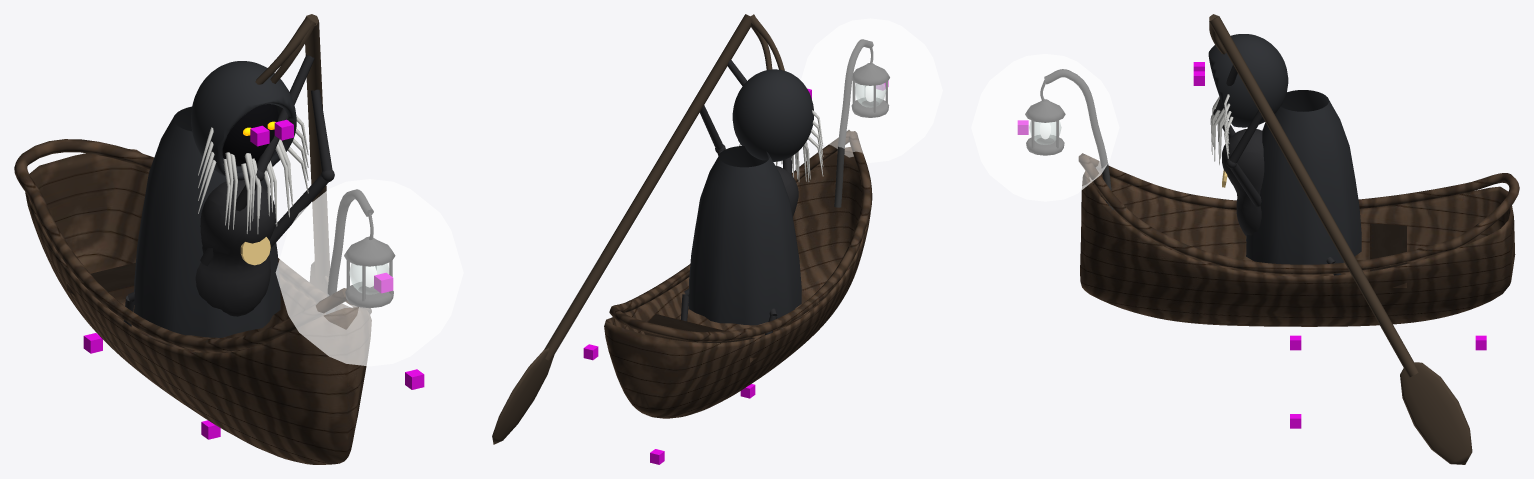
Rendered from 02_caronte_barchetta.glb.
The picture shows the model from 3 angles, left to right: view 1: azimuth 30°, elevation 25°; view 2: azimuth 150°, elevation 25°; view 3: azimuth 270°, elevation 25°; orthographic projection. The views are drawn at different scales.
Parts seen in each view (by area): view 1: Caronte__Legno_Barca, Caronte__Alone_Lanterna, Caronte__Mantello_Elitre, Caronte__Zampe, Caronte__Remo, Caronte__Capelli_Bianchi, Caronte__Ferro_Lanterna, Caronte__Ombra_Cappuccio, Caronte__Vetro_Lanterna, Caronte__Obolo_Oro; view 2: Caronte__Legno_Barca, Caronte__Mantello_Elitre, Caronte__Alone_Lanterna, Caronte__Remo, Caronte__Ferro_Lanterna, Caronte__Zampe, Caronte__Capelli_Bianchi, Caronte__Vetro_Lanterna; view 3: Caronte__Legno_Barca, Caronte__Mantello_Elitre, Caronte__Alone_Lanterna, Caronte__Remo, Caronte__Zampe, Caronte__Ferro_Lanterna, Caronte__Capelli_Bianchi.
Boxes of the visible parts, x1,y1,x2,y2 form: Caronte__Legno_Barca: [14, 139, 371, 464]; Caronte__Alone_Lanterna: [275, 179, 463, 366]; Caronte__Mantello_Elitre: [134, 61, 296, 337]; Caronte__Zampe: [123, 54, 334, 326]; Caronte__Remo: [255, 14, 329, 293]; Caronte__Capelli_Bianchi: [198, 115, 308, 234]; Caronte__Ferro_Lanterna: [326, 189, 395, 314]; Caronte__Ombra_Cappuccio: [222, 104, 278, 166]; Caronte__Vetro_Lanterna: [349, 263, 388, 294]; Caronte__Obolo_Oro: [240, 237, 270, 265]; Caronte__Legno_Barca: [604, 130, 872, 418]; Caronte__Mantello_Elitre: [688, 69, 813, 325]; Caronte__Alone_Lanterna: [801, 18, 942, 162]; Caronte__Remo: [492, 14, 784, 444]; Caronte__Ferro_Lanterna: [834, 39, 889, 207]; Caronte__Zampe: [680, 60, 798, 335]; Caronte__Capelli_Bianchi: [738, 110, 823, 181]; Caronte__Vetro_Lanterna: [855, 83, 885, 107]; Caronte__Legno_Barca: [1078, 153, 1519, 326]; Caronte__Mantello_Elitre: [1208, 34, 1361, 264]; Caronte__Alone_Lanterna: [971, 54, 1119, 201]; Caronte__Remo: [1209, 14, 1472, 464]; Caronte__Zampe: [1213, 65, 1341, 275]; Caronte__Ferro_Lanterna: [1025, 69, 1113, 209]; Caronte__Capelli_Bianchi: [1210, 94, 1233, 165].
Size of the model in its own units: 2.28 by 3.42 by 4.44.
Materials: 13 (1 with a texture image).
